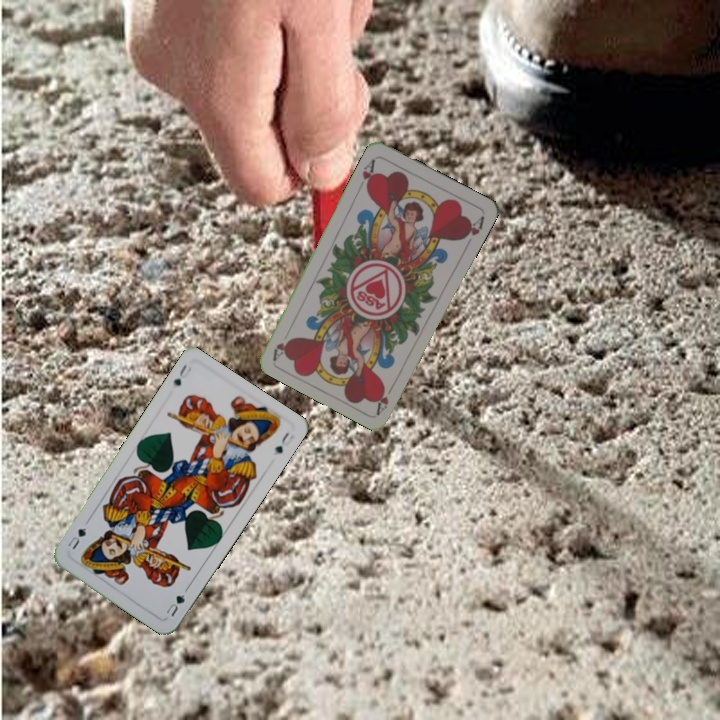GU: (169, 359, 195, 389), (162, 590, 187, 619)
HA: (372, 378, 398, 416), (358, 155, 378, 193)
